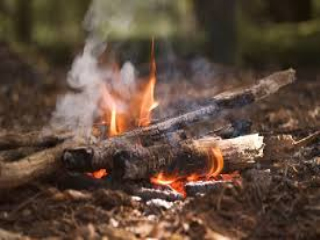fire: (105, 67, 172, 134), (151, 150, 232, 191)
smoke: (46, 21, 120, 144)
